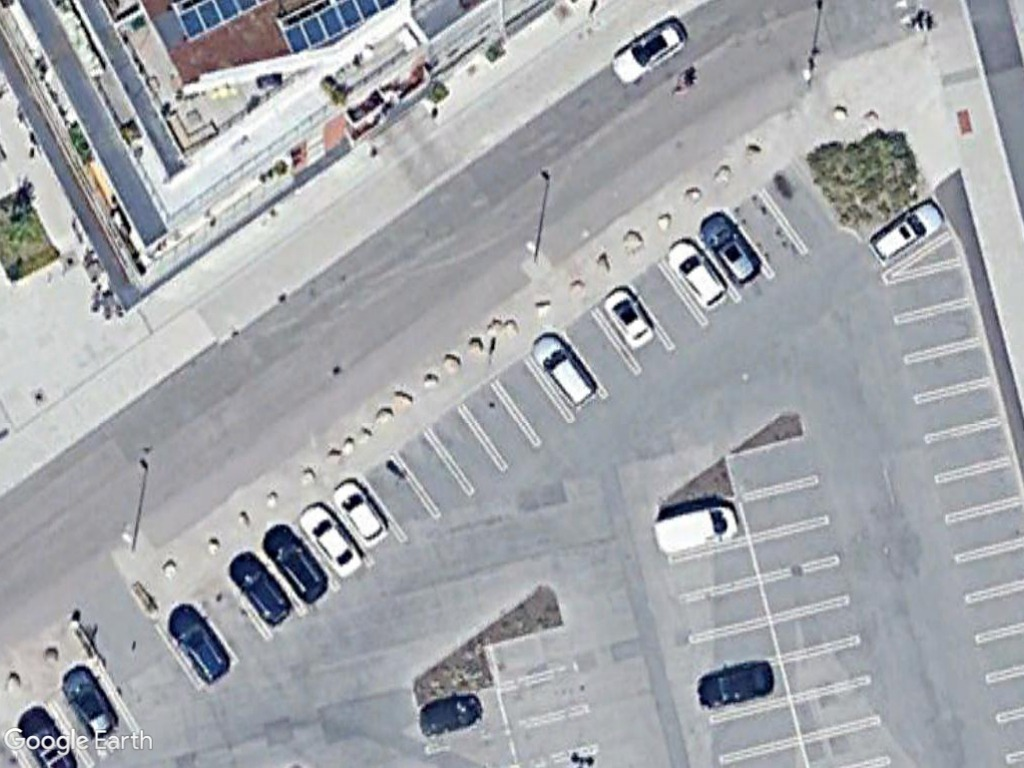car: (605, 10, 694, 90), (523, 329, 602, 415), (866, 194, 950, 269), (259, 521, 332, 607), (163, 600, 236, 686), (294, 502, 367, 581), (226, 550, 295, 629), (698, 210, 765, 289), (665, 237, 732, 315), (55, 663, 120, 743), (695, 653, 780, 714), (329, 478, 395, 553), (600, 285, 661, 358)
van: (651, 495, 741, 561)
